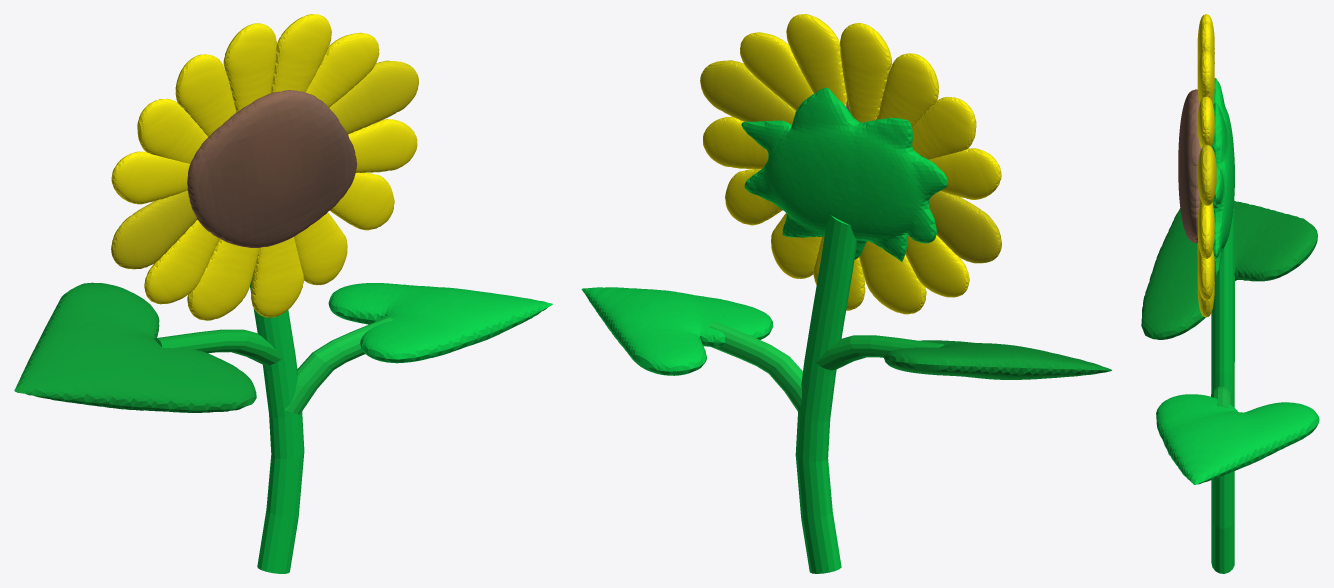
The model's file is himawari.glb.
The picture shows the model from 3 angles, left to right: view 1: azimuth 30°, elevation 25°; view 2: azimuth 150°, elevation 25°; view 3: azimuth 270°, elevation 25°; orthographic projection. The views are drawn at different scales.
Bounding box in the file's own units: 0.0216 × 0.0215 × 0.00655.
Materials: 8 (8 with a texture image).
